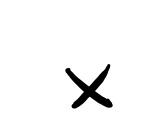mult: (62, 64, 114, 108)
